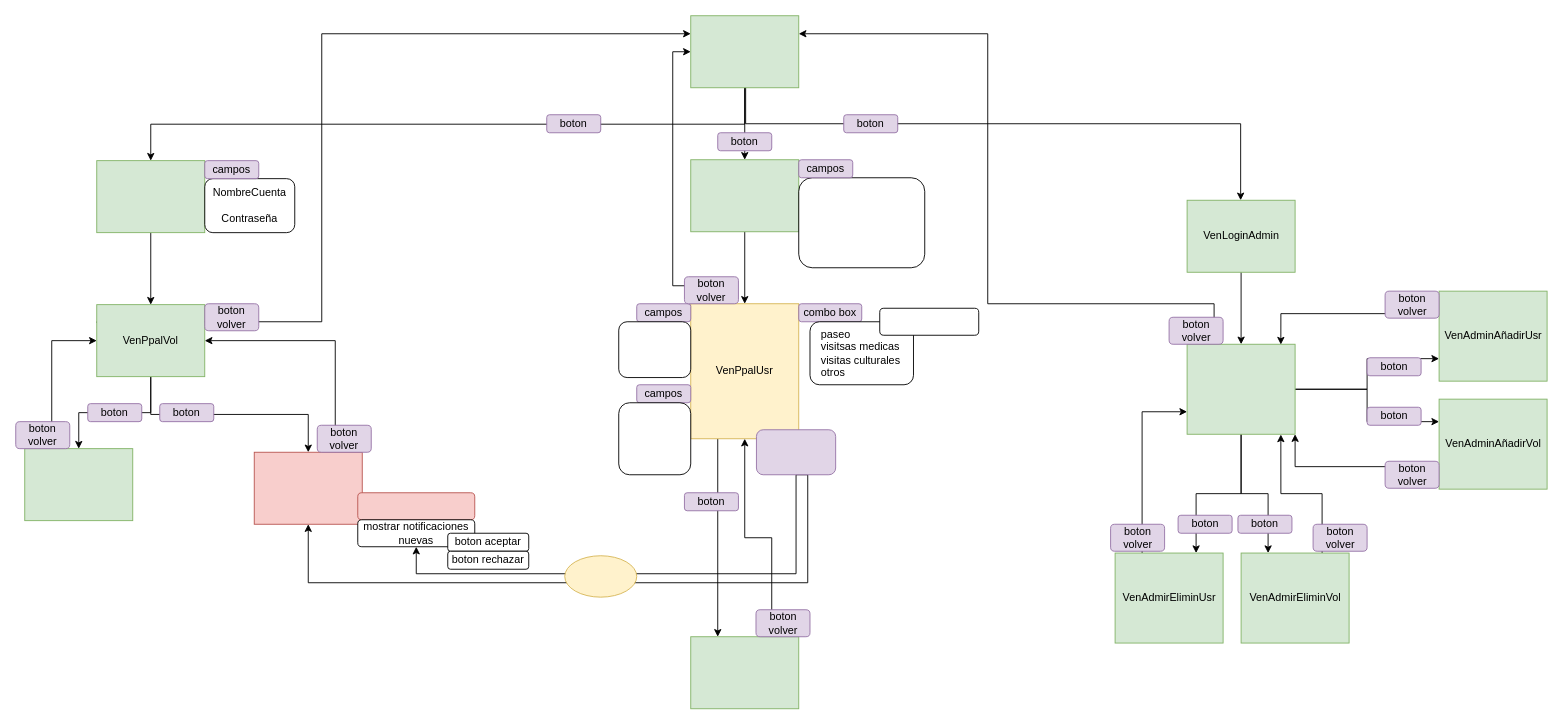
Some shapes in this 1563 by 725 pixel diagram are drawn without their labels. The box of each missing label's shape, as (x1, y1, x2, y2) in pixels:
boton solicitar acomp (enviar): (756, 429, 836, 475)
Lugar de recogida Lugar de destino: (618, 402, 691, 475)
Mes Dia Hora Mins: (618, 321, 691, 378)
mostrar notificaciones antiguas: (357, 492, 475, 520)
NombreCuenta Contraseña Asociacion de la que recibes el servicio: (798, 177, 925, 268)
notificacion: (564, 555, 637, 597)
tipo de acompañameinto: (879, 307, 979, 335)
VenLoginUsr: (690, 159, 799, 232)
VenLoginVol: (96, 160, 205, 233)
VenModificarUsr: (690, 636, 799, 709)
VenModificarVol: (24, 448, 133, 521)
VenNotificacinesVol: (253, 451, 362, 524)
VenOpcUsr: (690, 15, 799, 88)
VenPpalAdmin: (1186, 343, 1295, 434)
